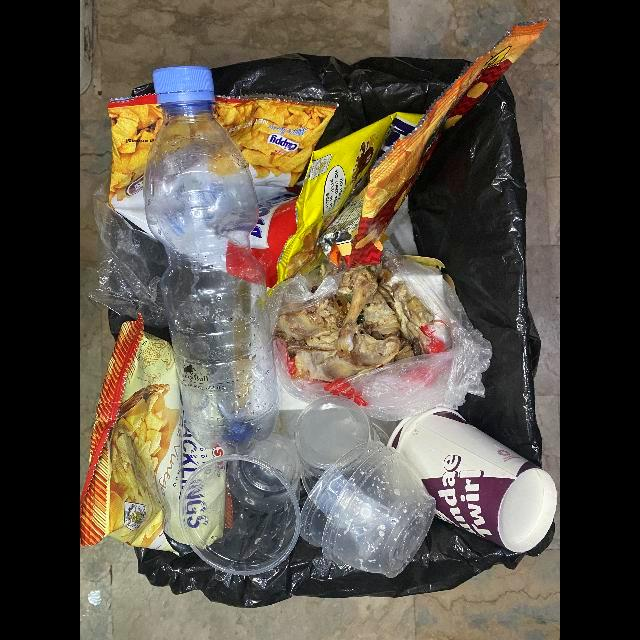cardboard: (386, 406, 558, 552)
food_wrapper: (317, 21, 548, 268), (109, 95, 337, 290), (80, 313, 232, 559), (275, 111, 426, 282)
left_over_food: (274, 263, 435, 383)
plastic_bag: (90, 177, 170, 329)
plastic_bottle: (141, 64, 282, 457)
plastic_container: (301, 442, 436, 579), (292, 396, 388, 491)
